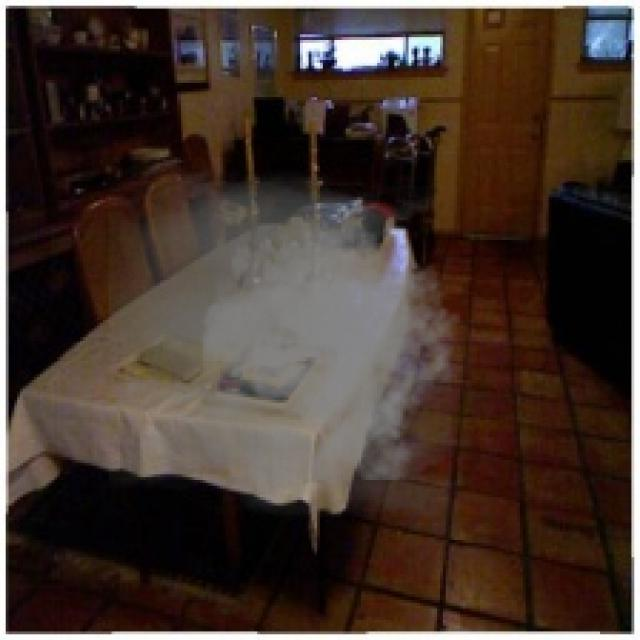smoke: (108, 172, 463, 517)
